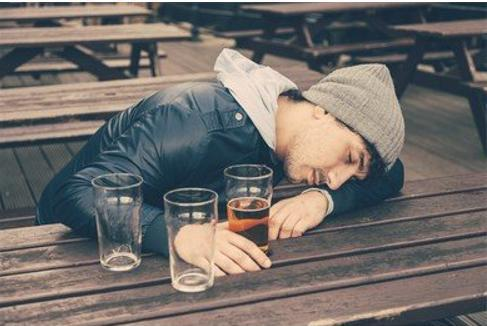Drunk: (286, 122, 373, 191)
